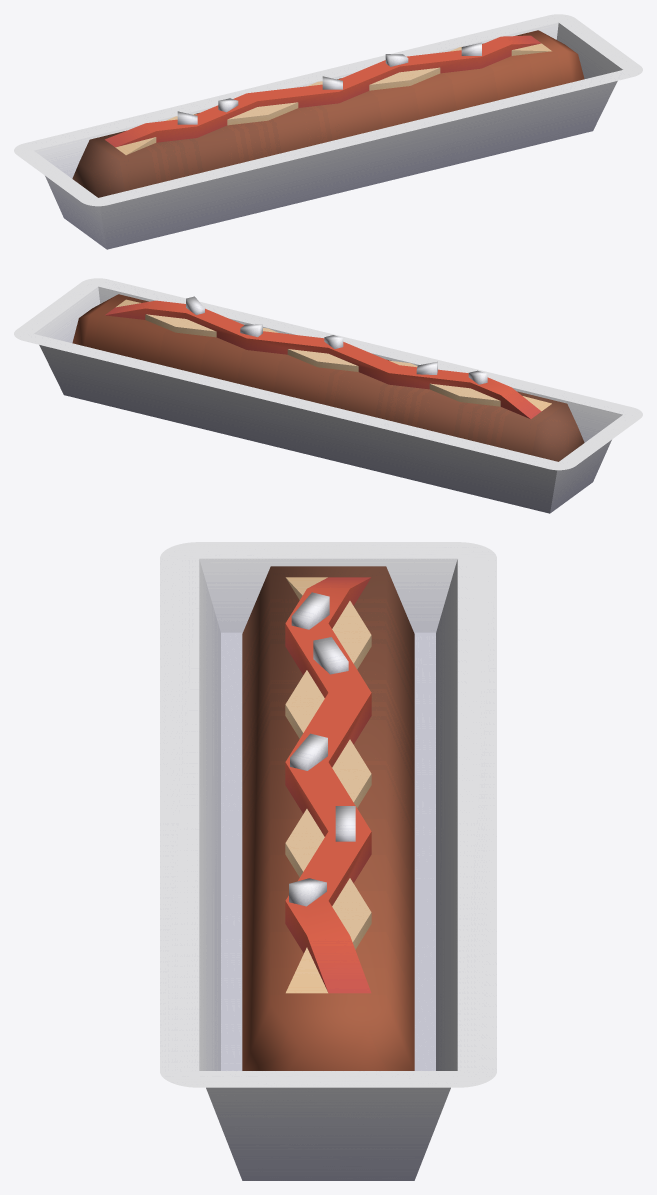
Rendered from frikandel-speciaal.glb.
3 views of the same model, one above another, from view 1: azimuth 30°, elevation 25°; view 2: azimuth 150°, elevation 25°; view 3: azimuth 270°, elevation 25° (orthographic). The views are drawn at different scales.
Parts seen in each view (by area): view 1: frikandel-speciaal, frikandel, sauce-onions; view 2: frikandel-speciaal, frikandel, sauce-onions; view 3: frikandel-speciaal, frikandel, sauce-onions.
Boxes of the visible parts, <box> form: frikandel-speciaal: <box>14,14,642,249</box>; frikandel: <box>72,30,584,197</box>; sauce-onions: <box>105,35,551,155</box>; frikandel-speciaal: <box>14,278,642,513</box>; frikandel: <box>72,294,584,461</box>; sauce-onions: <box>105,296,551,419</box>; frikandel-speciaal: <box>160,542,496,1180</box>; frikandel: <box>242,566,414,1070</box>; sauce-onions: <box>285,577,371,993</box>.
Bounding box in the file's own units: 0.636 × 0.1087 × 0.1661.
Materials: 1 (1 with a texture image).
